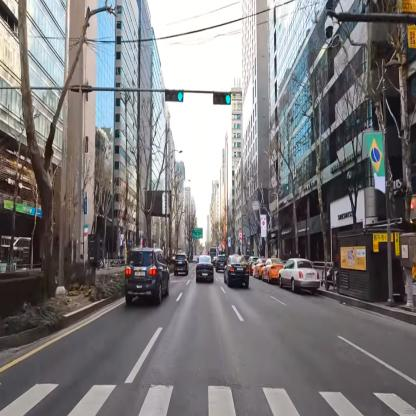Green: (165, 86, 184, 102), (213, 93, 232, 106)
